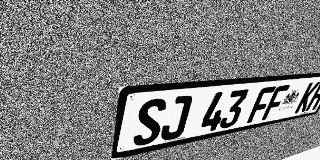3: (218, 89, 249, 129)
4: (198, 91, 231, 133)
F: (246, 86, 276, 123), (261, 85, 290, 120)
H: (305, 80, 320, 111)
J: (159, 95, 193, 142)
K: (294, 81, 320, 113)
S: (132, 97, 168, 147)
